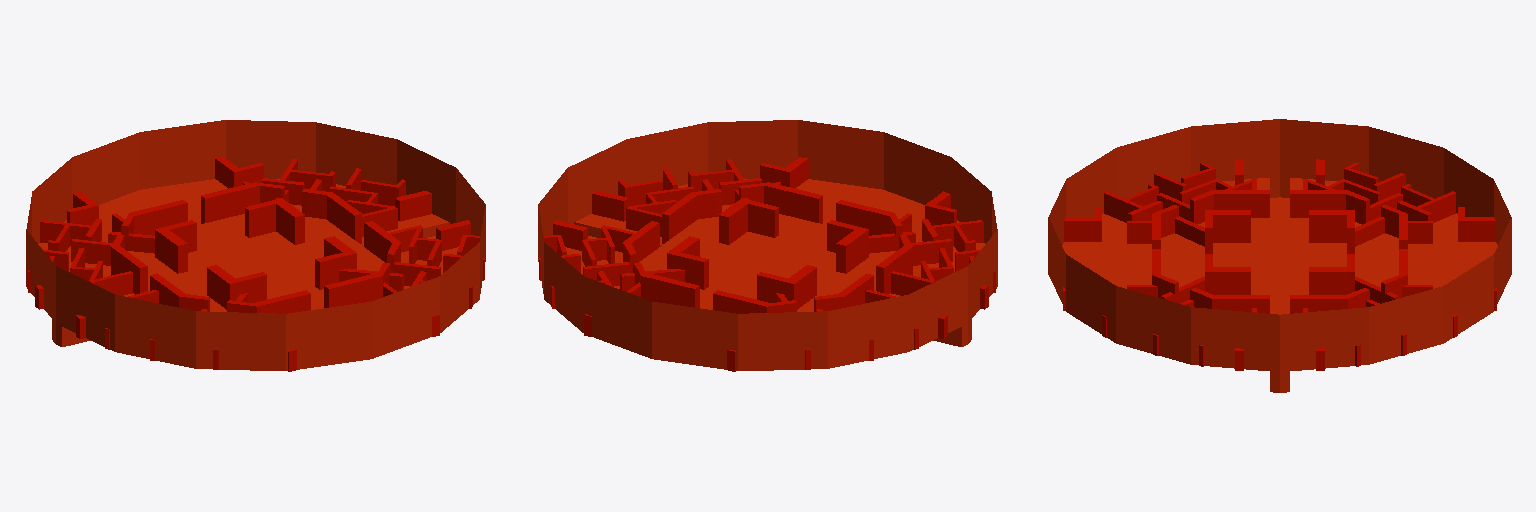
Rendered from Map.obj.
The picture shows the model from 3 angles: view 1: azimuth 30°, elevation 25°; view 2: azimuth 150°, elevation 25°; view 3: azimuth 270°, elevation 25°; orthographic projection.
Parts seen in each view (by area): view 1: Circle, Cube; view 2: Circle, Cube; view 3: Circle, Cube.
Part boxes in pixels (x1,y1,x2,y2): Circle: (26, 120, 485, 370); Cube: (28, 157, 484, 371); Circle: (538, 120, 997, 370); Cube: (539, 157, 995, 371); Circle: (1048, 119, 1511, 392); Cube: (1063, 159, 1496, 370).
Size of the model in its own units: 101 by 18.78 by 101.